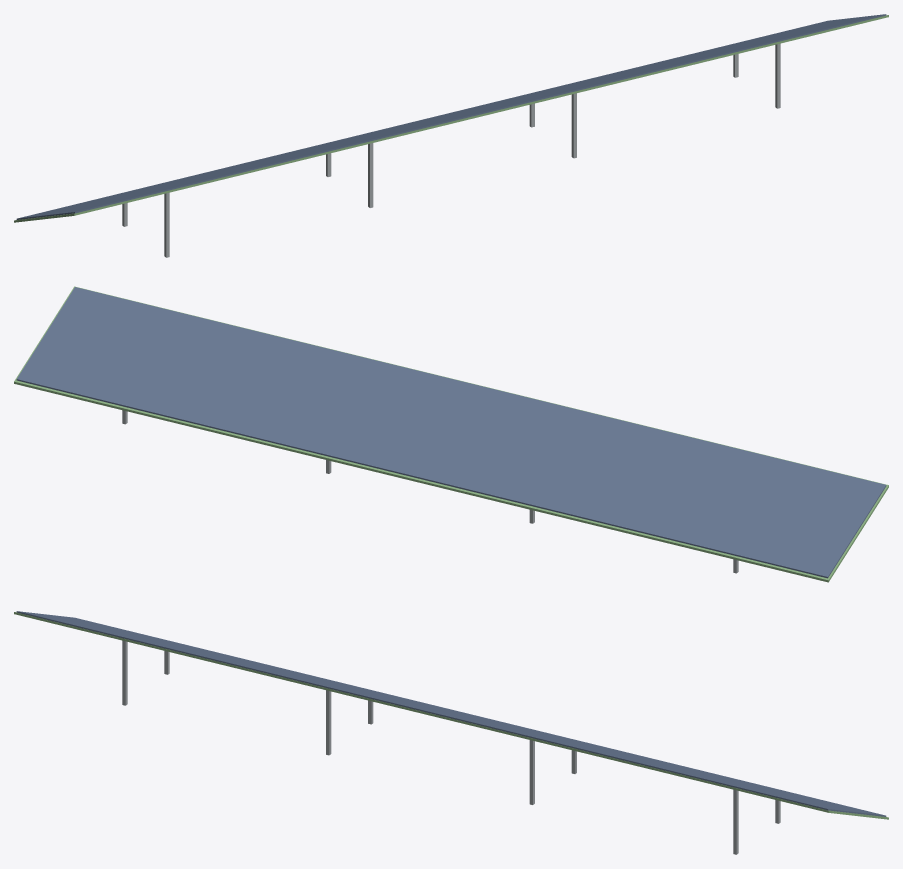
Rendered from solar-row.glb.
3 views of the same model, one above another, from view 1: azimuth 30°, elevation 25°; view 2: azimuth 150°, elevation 25°; view 3: azimuth 330°, elevation 25° (orthographic).
Visible parts, largest first — view 1: solar-row; view 2: solar-row; view 3: solar-row.
Part boxes in pixels (x1=…): solar-row: x1=14, y1=14, x2=888, y2=257; solar-row: x1=14, y1=286, x2=888, y2=582; solar-row: x1=14, y1=611, x2=888, y2=854.
Bounding box in the file's own units: 11.36 × 1 × 1.46.
